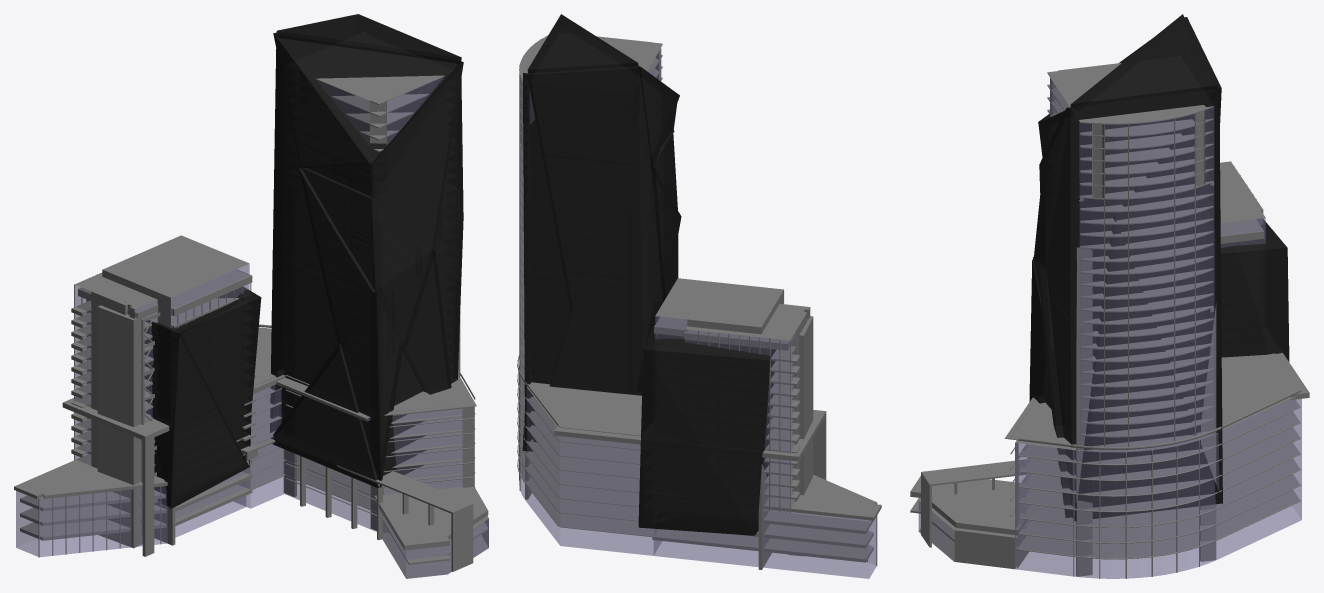
Rendered from jian3.gltf.
The picture shows the model from 3 angles, left to right: view 1: azimuth 30°, elevation 25°; view 2: azimuth 150°, elevation 25°; view 3: azimuth 270°, elevation 25°; orthographic projection. The views are drawn at different scales.
Parts seen in each view (by area): view 1: 1, a (×7), object 33, ada (×3), adsfa#2, ada#2, dadfae (×2), a#2, hsgfs, adsfa, hsgfs#1; view 2: 1, a (×7), object 33, ada (×3), a#2, ada#2, hsgfs, dadfae; view 3: 1, dadfae (×26), a (×7), a#2, OD=300.0mm ID=100.0mm (×8), adsfa#2, hsgfs.
Boxes of the visible parts, x1=… form: 1: x1=62, y1=14, x2=488, y2=578; a (×7): x1=240, y1=387, x2=473, y2=516; object 33: x1=16, y1=454, x2=246, y2=557; ada (×3): x1=20, y1=459, x2=252, y2=540; adsfa#2: x1=374, y1=486, x2=488, y2=550; ada#2: x1=14, y1=445, x2=257, y2=498; dadfae (×2): x1=317, y1=75, x2=443, y2=116; a#2: x1=253, y1=327, x2=476, y2=415; hsgfs: x1=78, y1=269, x2=252, y2=319; adsfa: x1=383, y1=516, x2=488, y2=564; hsgfs#1: x1=71, y1=293, x2=255, y2=331; 1: x1=519, y1=14, x2=826, y2=569; a (×7): x1=519, y1=378, x2=656, y2=536; object 33: x1=653, y1=509, x2=876, y2=578; ada (×3): x1=652, y1=511, x2=873, y2=562; a#2: x1=520, y1=363, x2=641, y2=436; ada#2: x1=763, y1=475, x2=881, y2=520; hsgfs: x1=654, y1=316, x2=795, y2=350; dadfae: x1=519, y1=35, x2=662, y2=81; 1: x1=918, y1=14, x2=1309, y2=578; dadfae (×26): x1=1047, y1=63, x2=1213, y2=437; a (×7): x1=1010, y1=399, x2=1299, y2=558; a#2: x1=1004, y1=353, x2=1299, y2=447; OD=300.0mm ID=100.0mm (×8): x1=1018, y1=389, x2=1301, y2=559; adsfa#2: x1=910, y1=471, x2=1027, y2=535; hsgfs: x1=1220, y1=218, x2=1264, y2=243.
Size of the model in its own units: 124 by 141 by 103.
